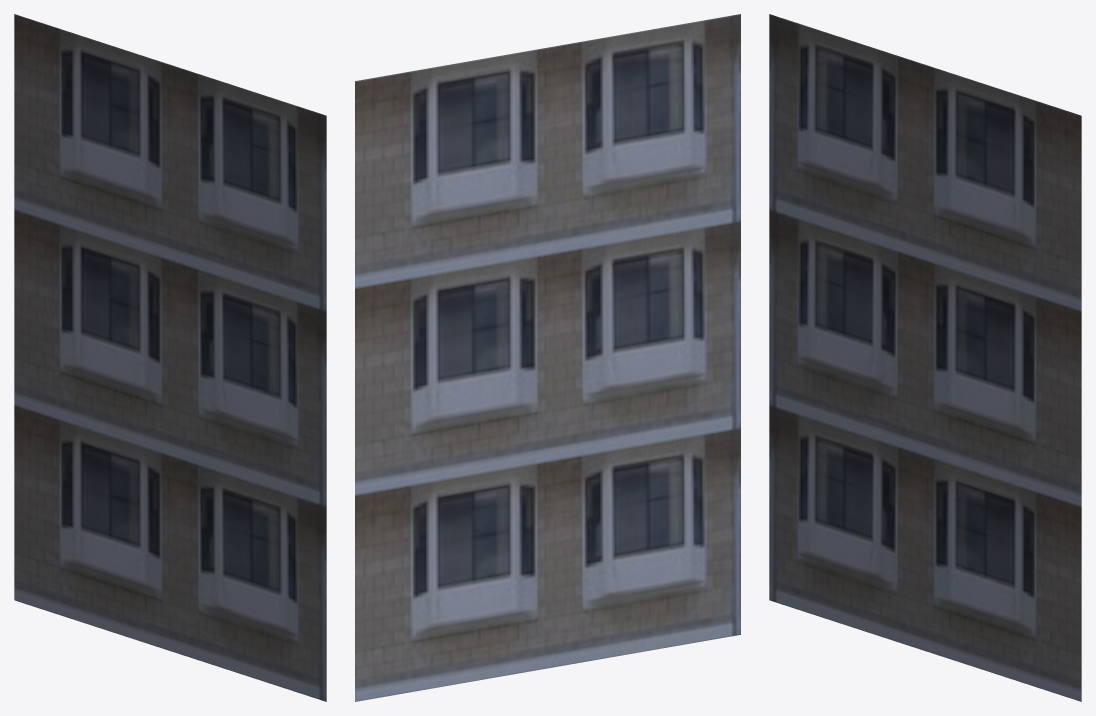
Rendered from ResTex__4383.fbx.
3 renders of one model, left to right at view 1: azimuth 90°, elevation 25°; view 2: azimuth 150°, elevation 25°; view 3: azimuth 270°, elevation 25°, orthographic. The views are drawn at different scales.
Parts seen in each view (by area): view 1: CityEngineMaterial_3_m; view 2: CityEngineMaterial_3_m; view 3: CityEngineMaterial_3_m.
Boxes of the visible parts, x1=… form: CityEngineMaterial_3_m: x1=14, y1=14, x2=326, y2=701; CityEngineMaterial_3_m: x1=355, y1=14, x2=740, y2=701; CityEngineMaterial_3_m: x1=769, y1=14, x2=1081, y2=701.
Bounding box in the file's own units: 3.35 × 9 × 4.34.
1 material, 1 textured.
